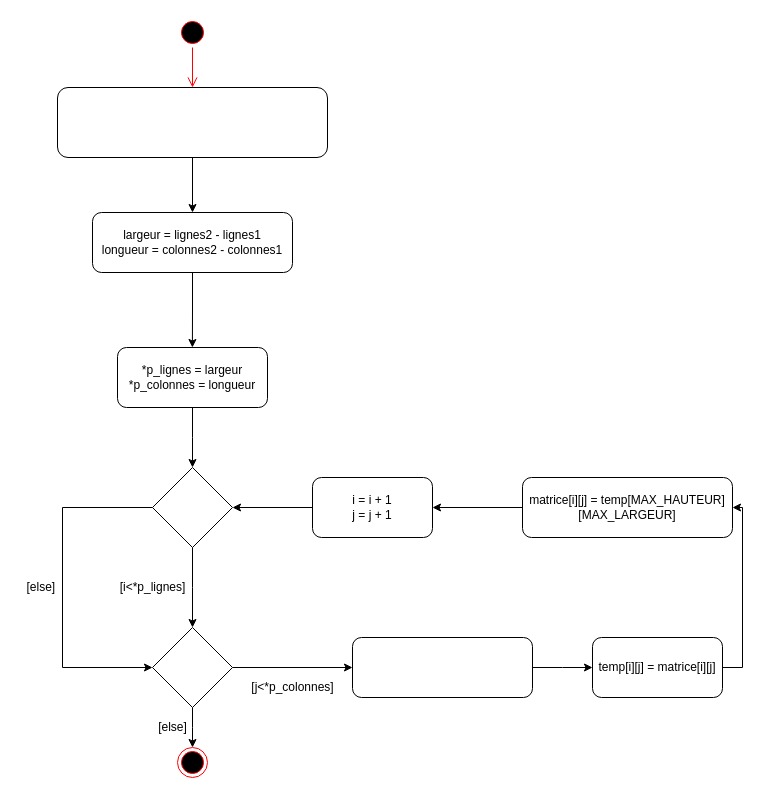
Image size: 768x795. Some labels were removed from this diagram. The shapes that lost their labels are listed below. From the top down, each one's box as (x1, y1, x2, y2) in pixels, then its label:
(56, 86, 328, 158): i := 0 j := 0 largeur := 0 longueur := 0 temp [MAX_HAUTEUR][MAX_LARGEUR]
(352, 636, 532, 698): temp[MAX_HAUTEUR][MAX_LARGEUR] = temp[i][j]
